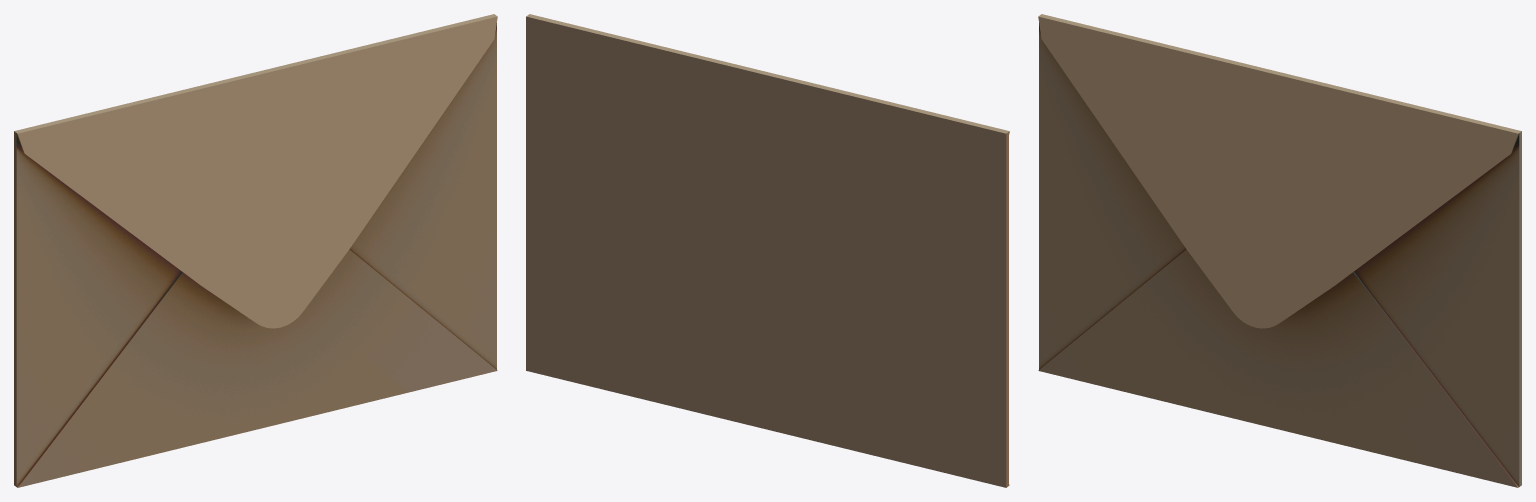
The model's file is envelope.fbx.
3 views of the same model, side by side, from view 1: azimuth 30°, elevation 25°; view 2: azimuth 150°, elevation 25°; view 3: azimuth 330°, elevation 25° (orthographic).
Visible parts, largest first — view 1: node_id30; view 2: node_id30; view 3: node_id30.
Part boxes in pixels (x1,y1,x2,y2): node_id30: (14,14,497,487); node_id30: (526,14,1009,487); node_id30: (1038,14,1521,487).
Bounding box in the file's own units: 0.512 × 0.3609 × 0.0488.
Materials: 1 (1 with a texture image).
